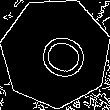O_NW: (24, 22, 87, 83)
